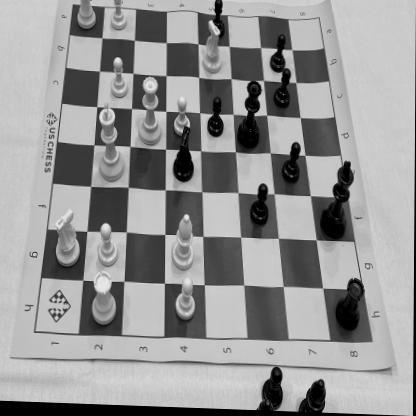black-king: (322, 156, 356, 244)
black-knight: (170, 127, 198, 186)
black-pawn: (248, 181, 274, 231), (204, 92, 227, 142), (281, 142, 303, 187), (268, 30, 288, 77), (272, 64, 292, 110), (210, 0, 228, 42)
black-queen: (236, 78, 264, 152)
black-rook: (334, 274, 367, 334)
white-bishop: (168, 211, 196, 274)
white-king: (94, 101, 127, 188)
white-knight: (50, 207, 82, 272), (198, 16, 226, 78)
white-pawn: (94, 222, 121, 272), (174, 276, 199, 326), (107, 55, 130, 104), (171, 96, 194, 138), (108, 0, 130, 33)
white-queen: (136, 72, 164, 152)
white-rook: (87, 270, 123, 334), (73, 0, 99, 35)
